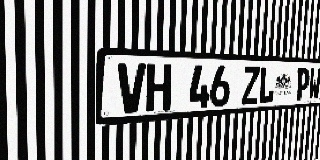4: (188, 65, 211, 109)
6: (210, 65, 231, 107)
H: (146, 64, 172, 112)
L: (258, 66, 275, 104)
P: (295, 67, 310, 101)
V: (117, 63, 146, 114)
W: (308, 68, 320, 100)
Z: (241, 66, 260, 105)
